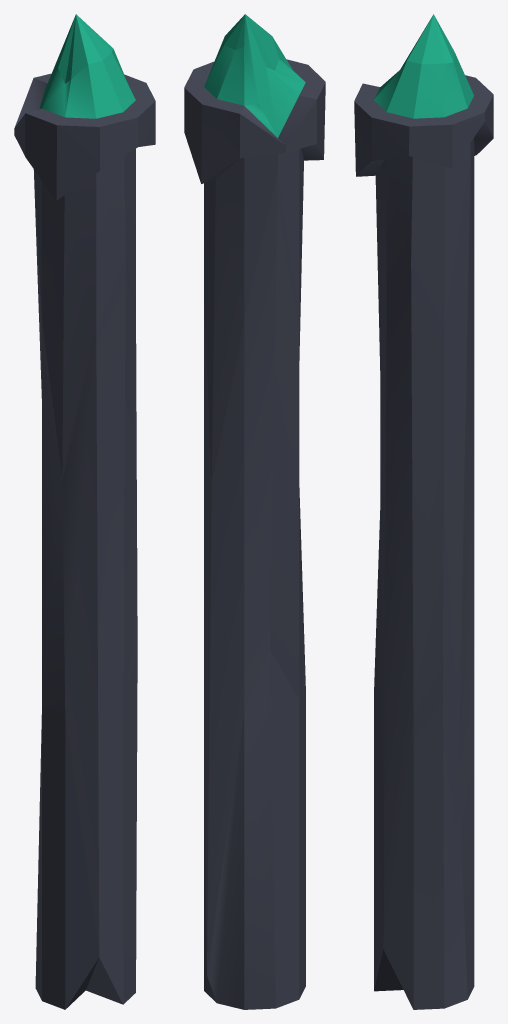
File: Pillar.fbx
3 renders of one model, left to right at view 1: azimuth 30°, elevation 25°; view 2: azimuth 150°, elevation 25°; view 3: azimuth 330°, elevation 25°, orthographic.
Parts seen in each view (by area): view 1: Pillar15; view 2: Pillar15; view 3: Pillar15.
Part boxes in pixels (<box>): Pillar15: <box>14,14,155,1009</box>; Pillar15: <box>184,14,325,1009</box>; Pillar15: <box>354,14,493,1009</box>.
Size of the model in its own units: 23.07 by 175 by 22.29.
